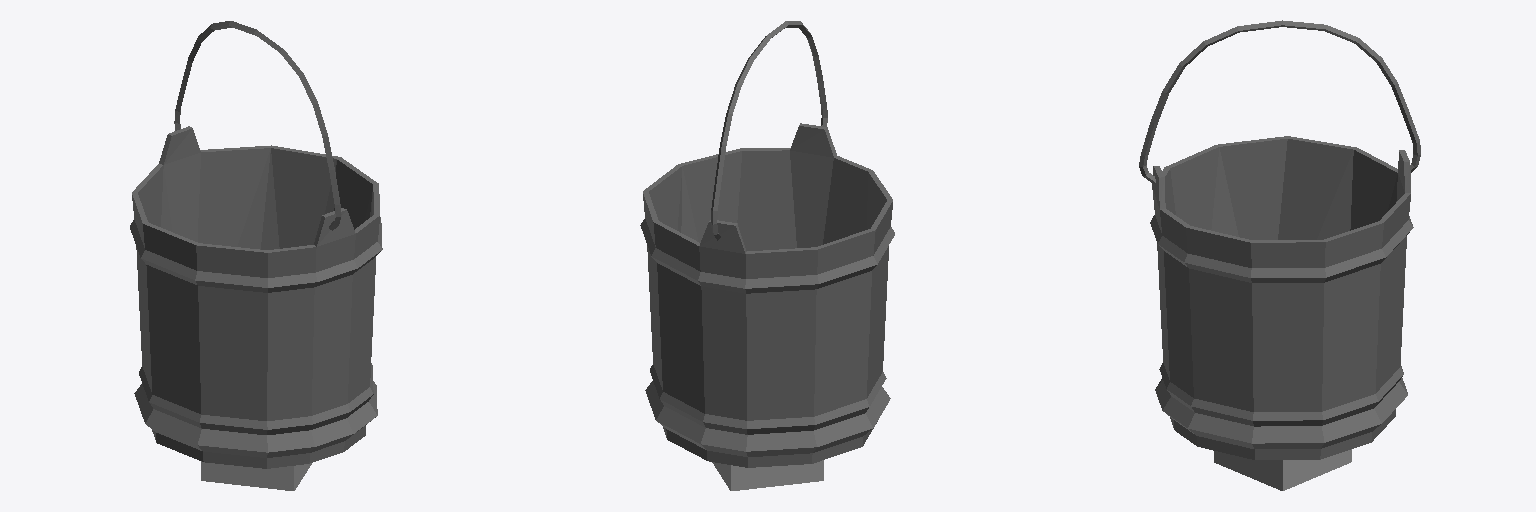
The robot description file, URDF, robot "bucket":
<?xml version="1.0"?>
<robot name="bucket">
  <link name="base_link">
    <visual>
      <origin xyz="0 0 0" rpy="0 0 -0.785398163" />
      <geometry>
  <mesh filename="package://hri_scenario/meshes/bucket.dae" scale="0.05 0.05 0.05"/>
      </geometry>
    </visual>
  </link>
</robot>

--- Facts derived from the render (not from the file) ---
3 views of the same robot in one strip: view 1: azimuth 30°, elevation 25°; view 2: azimuth 150°, elevation 25°; view 3: azimuth 270°, elevation 25° (orthographic).
Model bucket with 1 links and 0 joints (none), rooted at base_link, posed every joint at zero.
Links seen in each view (by area): view 1: base_link; view 2: base_link; view 3: base_link.
Boxes of the visible links, x1=… form: base_link: x1=130, y1=21, x2=382, y2=490; base_link: x1=640, y1=21, x2=894, y2=490; base_link: x1=1139, y1=20, x2=1420, y2=490.
Size in the robot's own frame: 0.2634 by 0.2889 by 0.4967 metres.
Meshes: 1 distinct files referenced, 1 mesh visuals loaded (1 Collada DAE).